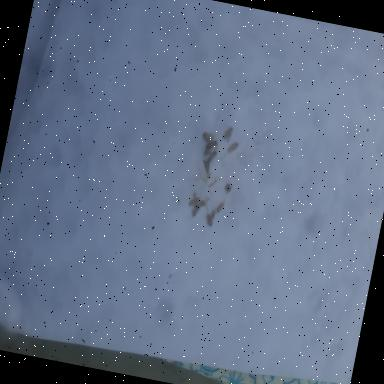pbw: (190, 198, 202, 220), (202, 130, 216, 144), (222, 126, 233, 143), (201, 158, 212, 173), (216, 198, 226, 214), (228, 140, 239, 154), (188, 196, 200, 208), (206, 140, 218, 152), (208, 150, 218, 164), (204, 213, 214, 227), (204, 146, 215, 156), (208, 180, 216, 188)
